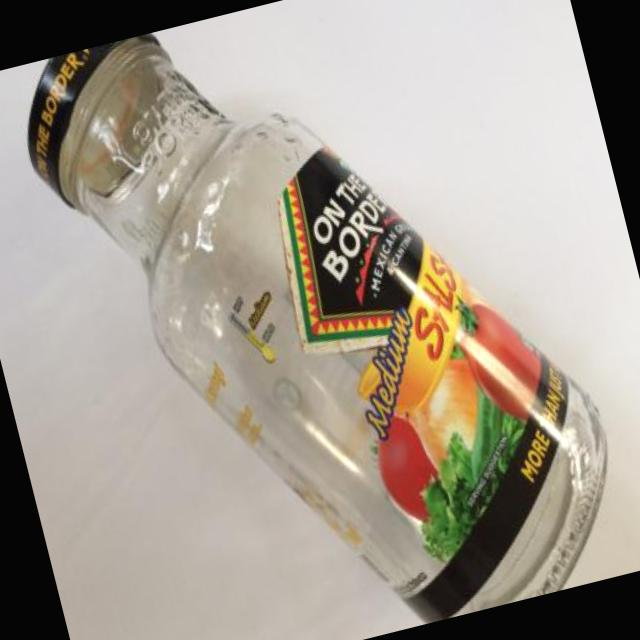chai_thuy_tinh: (25, 32, 610, 623)
